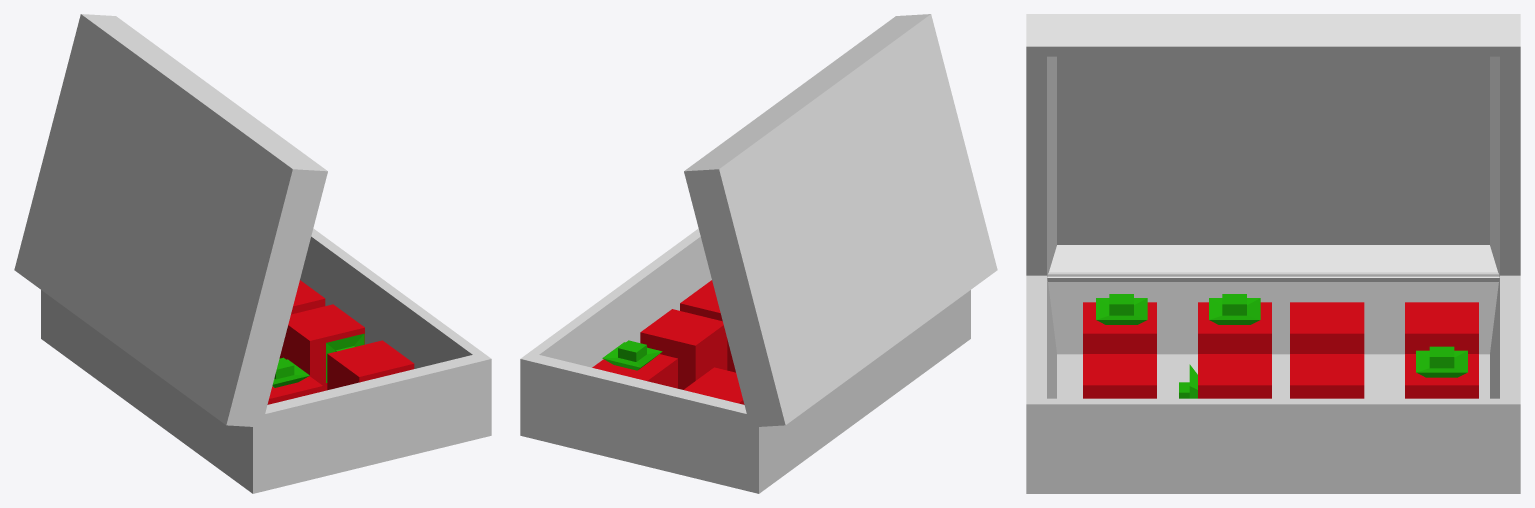
The model's file is StrawberryBox.fbx.
3 renders of one model, left to right at view 1: azimuth 30°, elevation 25°; view 2: azimuth 150°, elevation 25°; view 3: azimuth 270°, elevation 25°, orthographic. The views are drawn at different scales.
Visible parts, largest first — view 1: Cube.001, Cube, Cube.008, Cube.007, Cube.006, Cube.004, Cube.013, Cube.011; view 2: Cube.001, Cube, Cube.004, Cube.003, Cube.002, Cube.008, Cube.012; view 3: Cube.001, Cube, Cube.005, Cube.002, Cube.004, Cube.007, Cube.008, Cube.006, Cube.009, Cube.003, Cube.012, Cube.013 (+1 smaller).
Part boxes in pixels (x1,y1,x2,y2): Cube.001: (14, 14, 327, 427); Cube: (41, 228, 491, 493); Cube.008: (279, 304, 364, 391); Cube.007: (327, 340, 414, 390); Cube.006: (267, 376, 322, 404); Cube.004: (291, 280, 325, 314); Cube.013: (272, 357, 309, 387); Cube.011: (326, 333, 364, 382); Cube.001: (684, 14, 997, 426); Cube: (520, 228, 970, 493); Cube.004: (640, 309, 727, 389); Cube.003: (592, 354, 677, 388); Cube.002: (684, 367, 744, 404); Cube.008: (680, 280, 731, 371); Cube.012: (602, 340, 662, 370); Cube.001: (1026, 14, 1520, 281); Cube: (1026, 272, 1520, 493); Cube.005: (1290, 302, 1364, 353); Cube.002: (1405, 302, 1478, 353); Cube.004: (1290, 354, 1364, 398); Cube.007: (1083, 354, 1156, 398); Cube.008: (1198, 354, 1271, 398); Cube.006: (1083, 302, 1156, 353); Cube.009: (1198, 302, 1271, 353); Cube.003: (1405, 354, 1478, 398); Cube.012: (1416, 346, 1467, 377); Cube.013: (1096, 294, 1147, 324).
Bounding box in the file's own units: 144 × 164 × 200.
